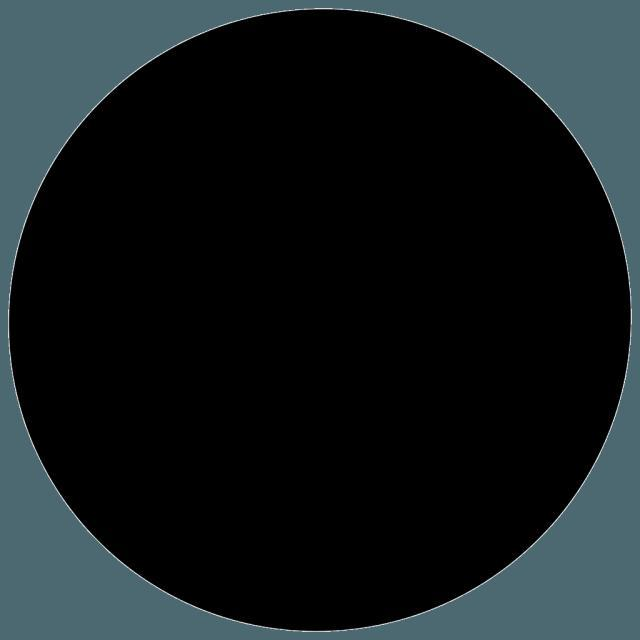Circle: (9, 9, 631, 629)
